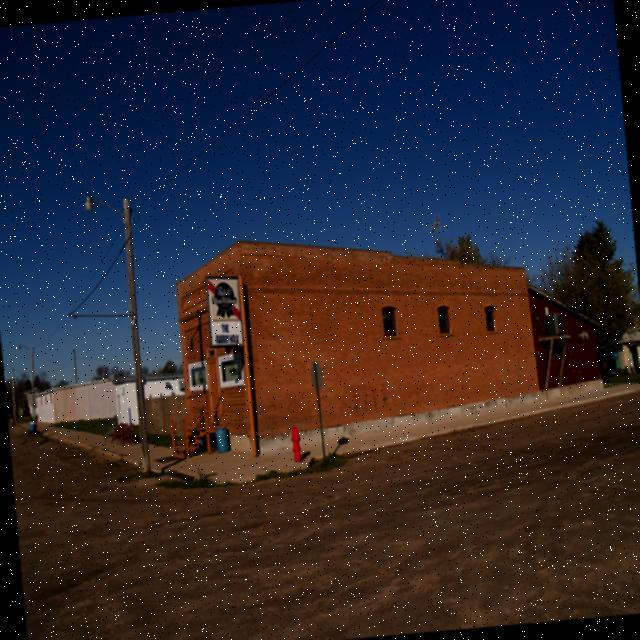fire_hydrant: (289, 424, 302, 462)
